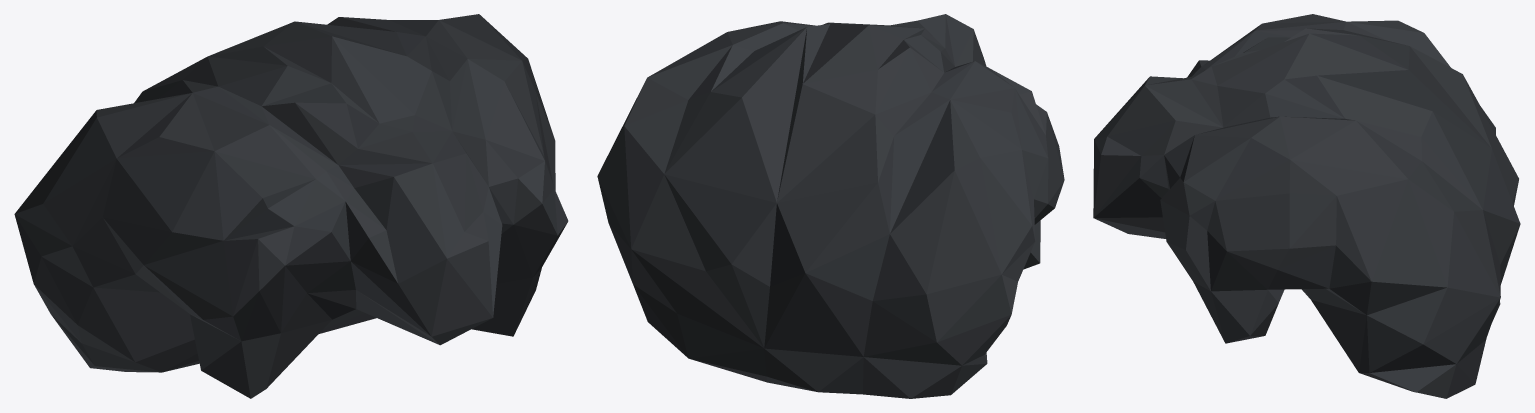
File: SM_Chr_Attach_Hair_Afro_01.fbx
The picture shows the model from 3 angles, left to right: view 1: azimuth 30°, elevation 25°; view 2: azimuth 150°, elevation 25°; view 3: azimuth 270°, elevation 25°; orthographic projection. The views are drawn at different scales.
Visible parts, largest first — view 1: SM_Chr_Attach_Hair_Afro_01; view 2: SM_Chr_Attach_Hair_Afro_01; view 3: SM_Chr_Attach_Hair_Afro_01.
Part boxes in pixels (<box>): SM_Chr_Attach_Hair_Afro_01: <box>14,14,568,398</box>; SM_Chr_Attach_Hair_Afro_01: <box>597,14,1064,398</box>; SM_Chr_Attach_Hair_Afro_01: <box>1093,14,1520,398</box>.
Bounding box in the file's own units: 34.6 × 24.64 × 30.45.
